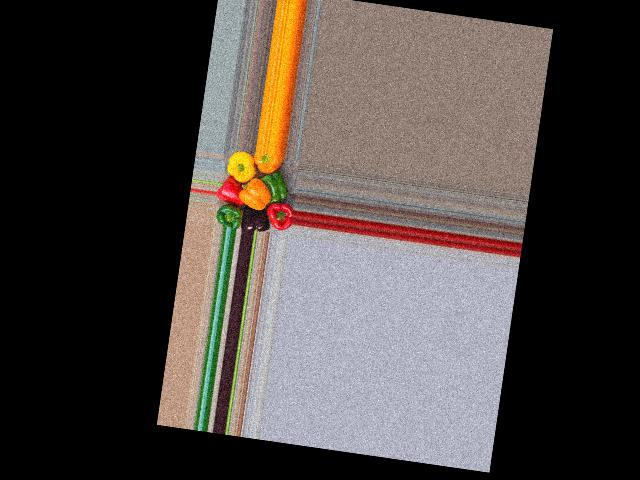bell_pepper: (251, 153, 291, 183)
